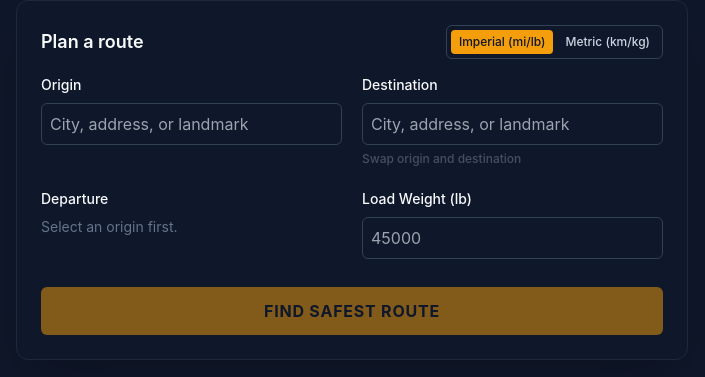
Test: RouteControls › converts the entered weight when the unit toggle changes
Type "10000" into the number field labelled "Load Weight (lb)" at [512, 238], box left=362, top=217, right=663, bottom=259
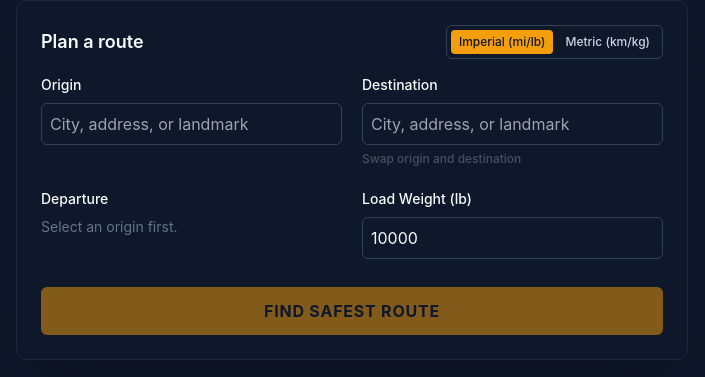
Click the button "Metric (km/kg)" at [608, 42], box left=557, top=30, right=658, bottom=54
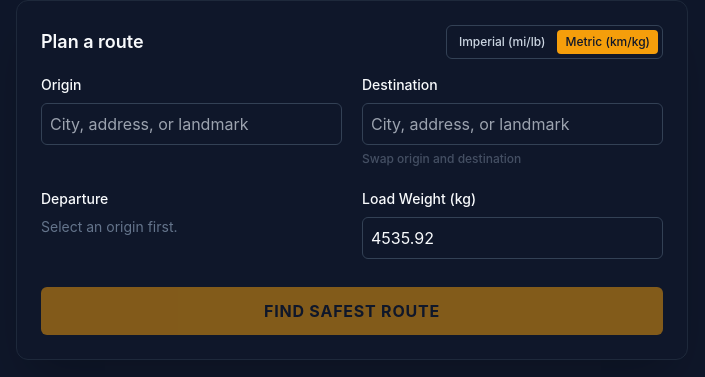
Expected: the number field labelled "Load Weight (kg)" holds "4535.92", left=362, top=217, right=663, bottom=259
